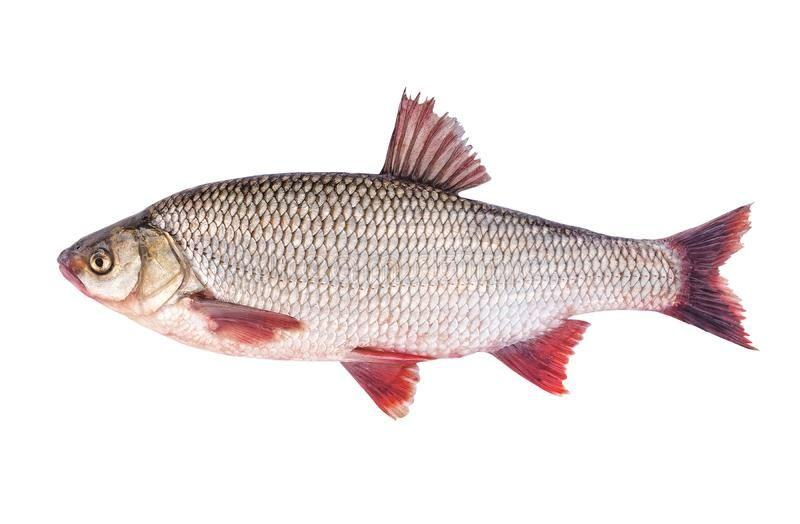Indian Carp: (62, 96, 756, 426)
